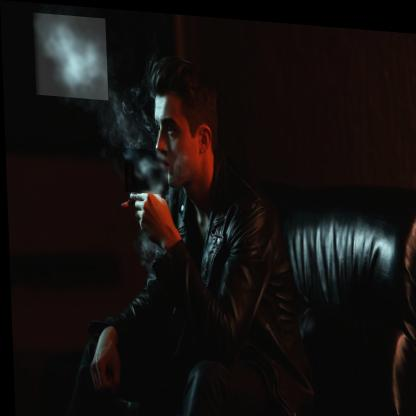smoke: (33, 12, 107, 99), (123, 146, 167, 192)
